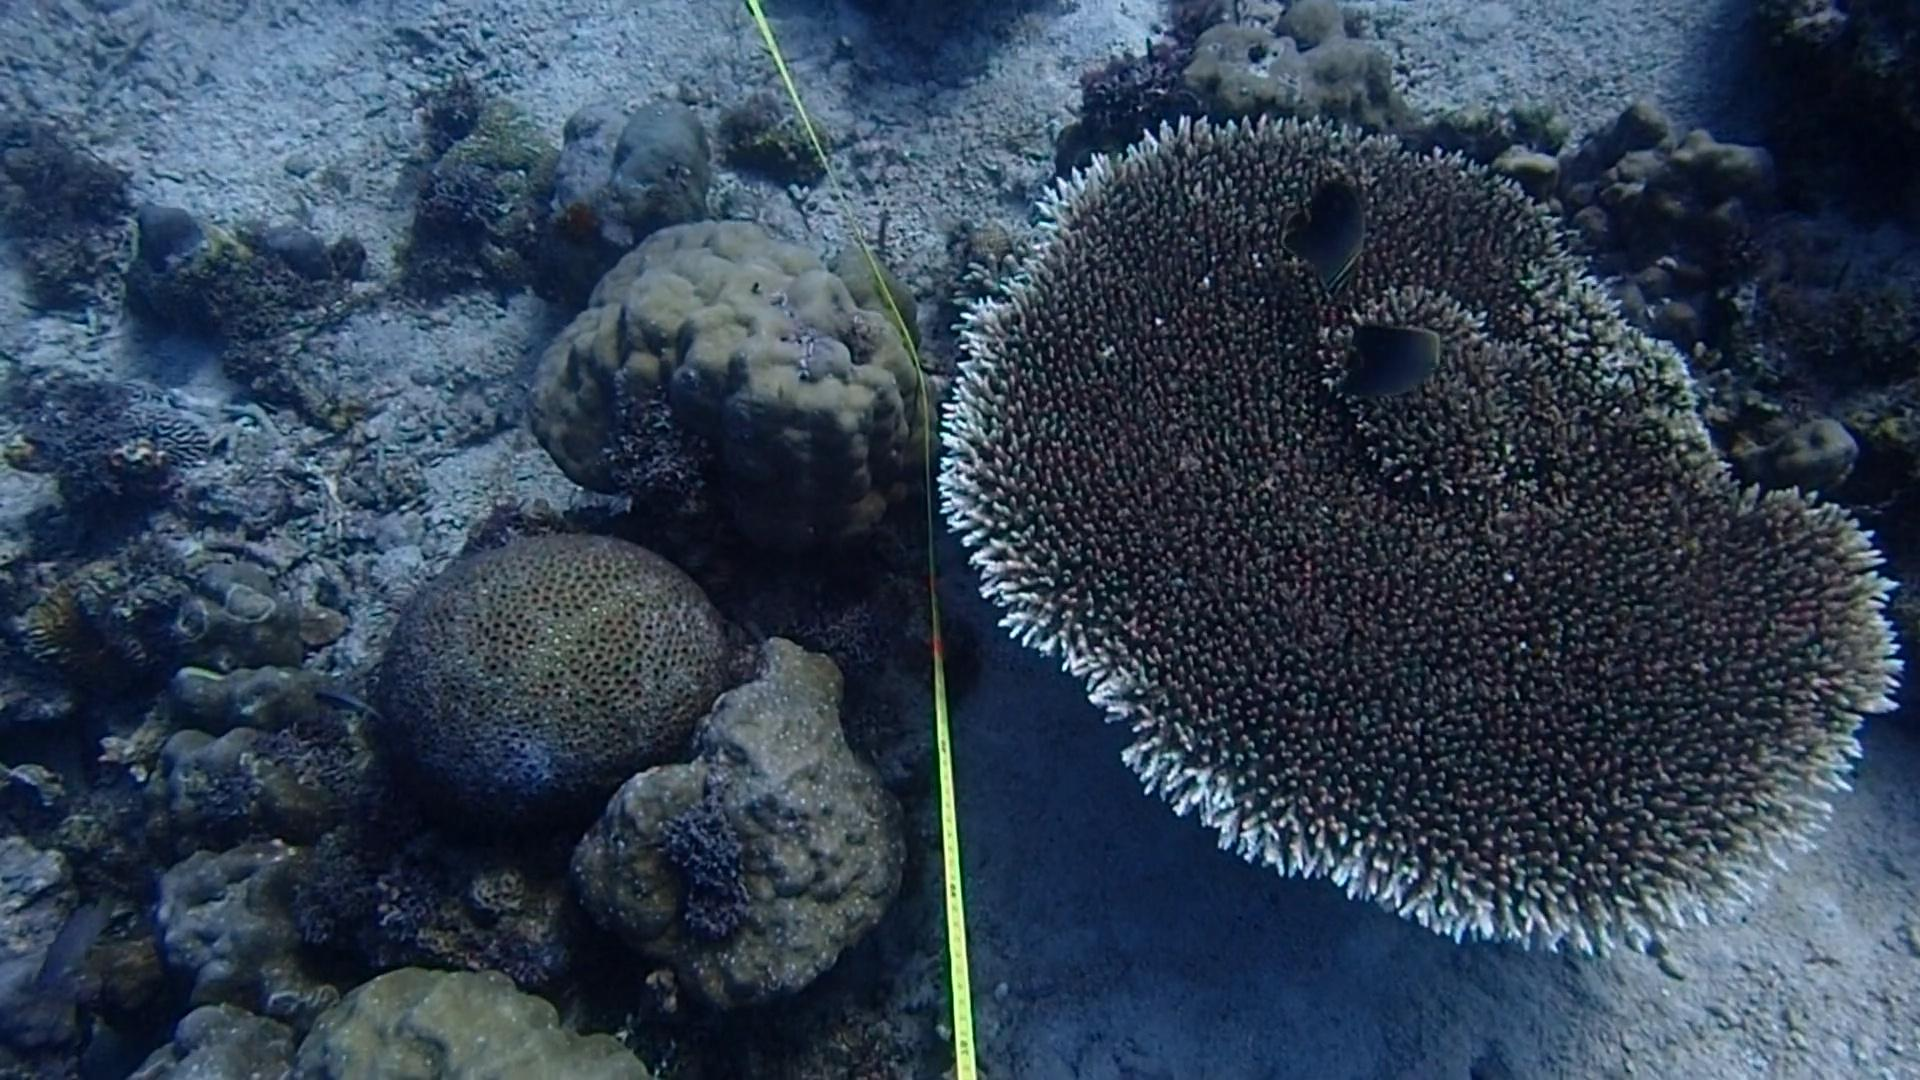Dark Blue Dory: (1329, 309, 1456, 410), (1280, 174, 1393, 287)
Light Fish: (318, 680, 377, 728)
